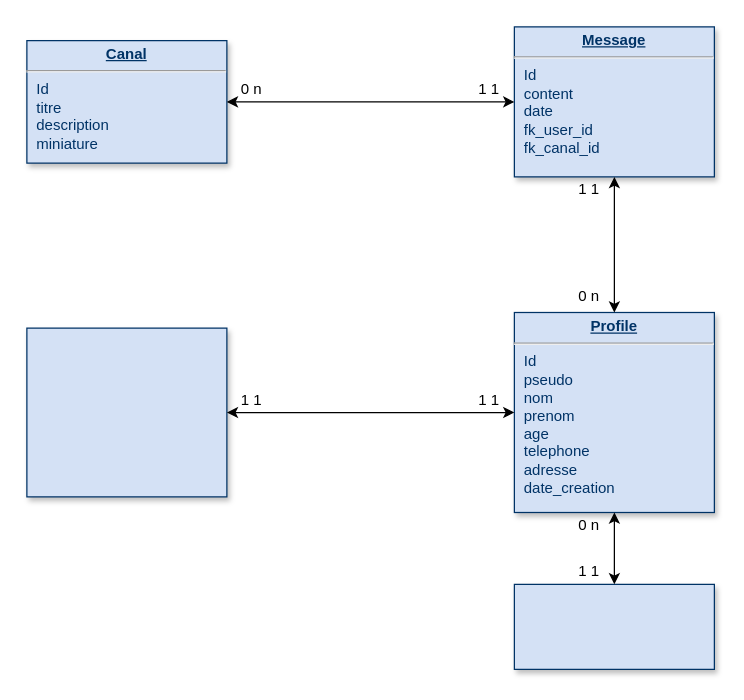
The diagram is 744 pixels wide and 700 high, and some of its shapes have lost their labels. Each missing label, with the centre of its shape:
Amis Id fk_user_id: the point at 615,628
User Id nom email password nb_amis date_creation: the point at 127,414
